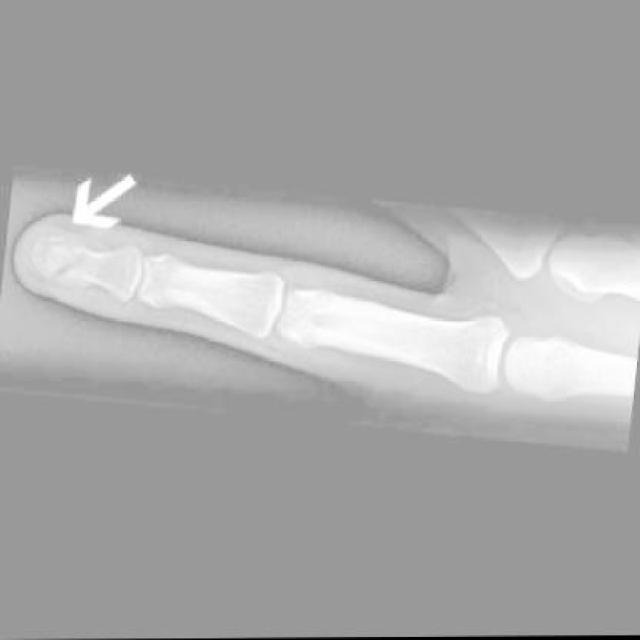Fracture: (29, 238, 100, 296)
